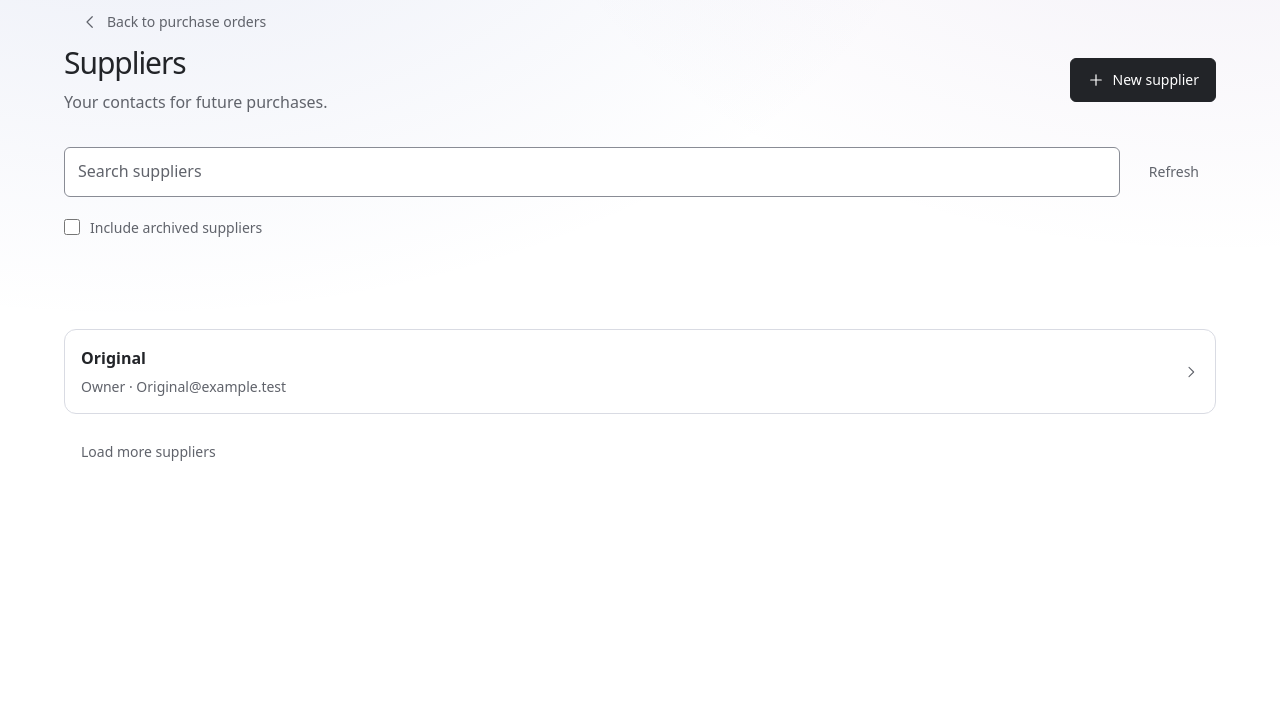
it: retains query-bound loaded pages on failure and ignores obsolete responses
Click the button "Load more suppliers": point(148, 452) x1=64 y1=430 x2=233 y2=474
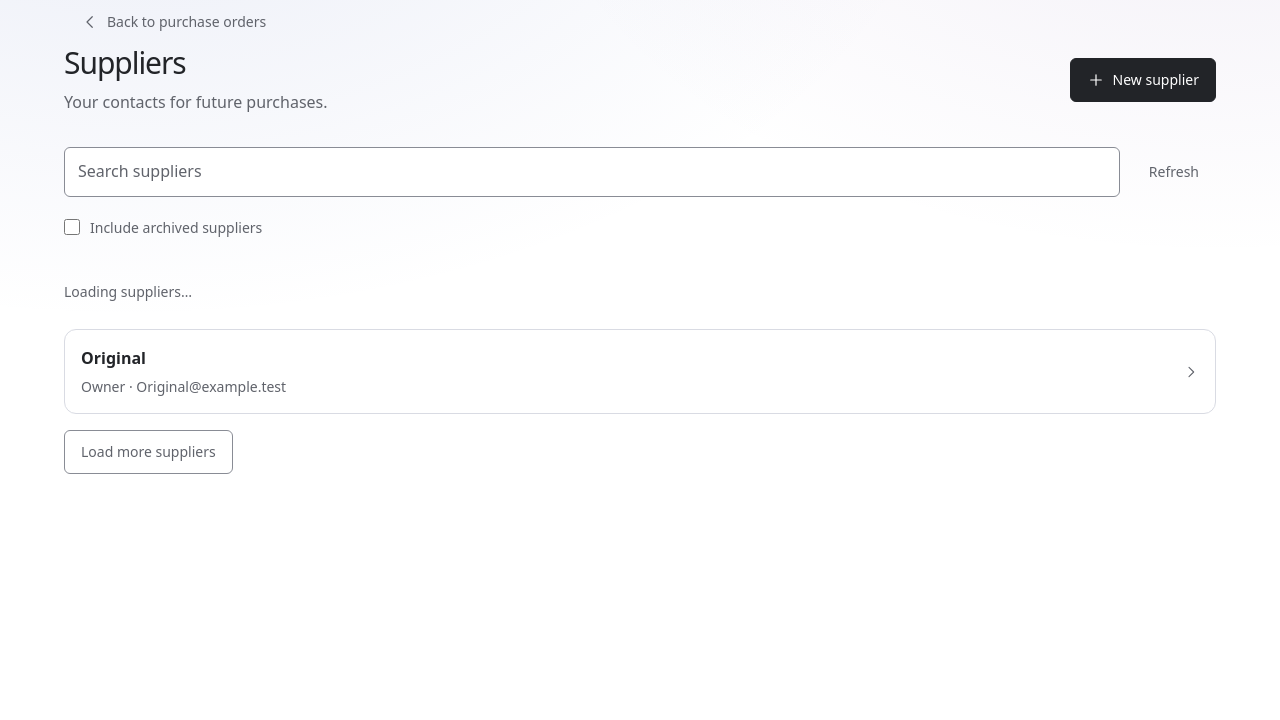
Note: WHEN searching supersedes the outstanding continuation, then another query fails.
In the search field: point(592, 172) x1=64 y1=147 x2=1120 y2=197, type "Latest"
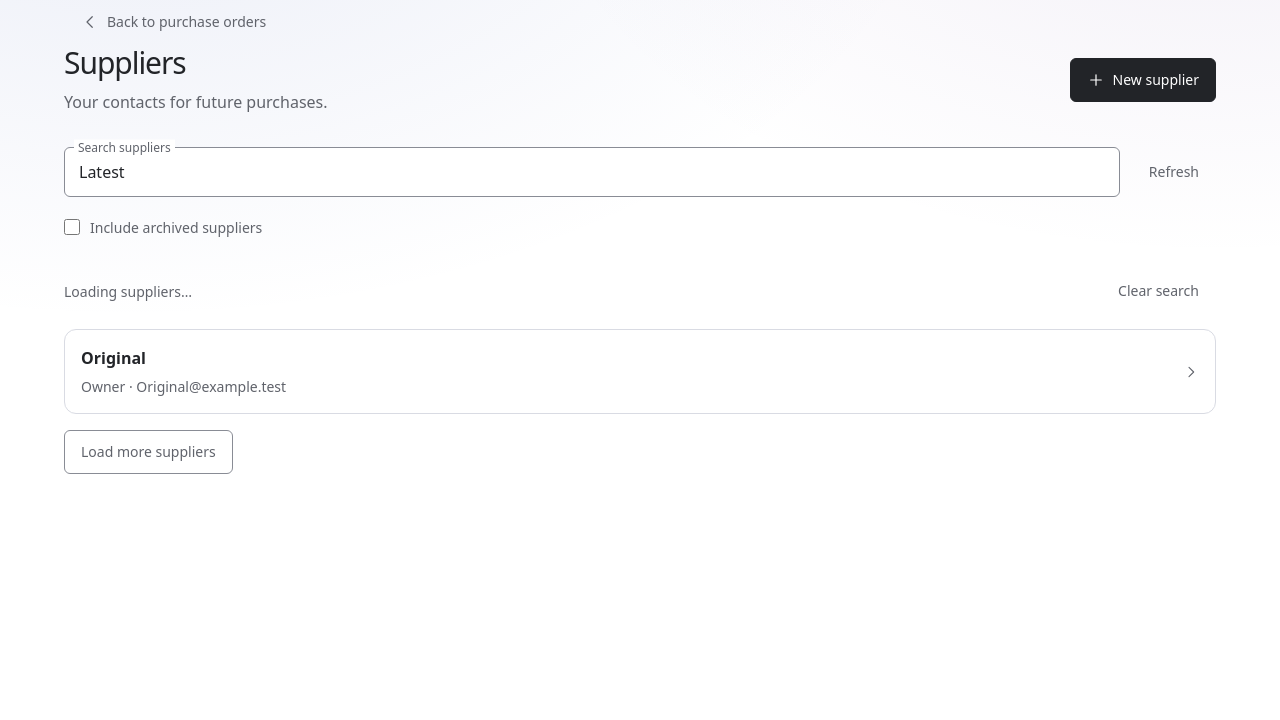
Submit the form, box x1=64 y1=147 x2=1216 y2=249
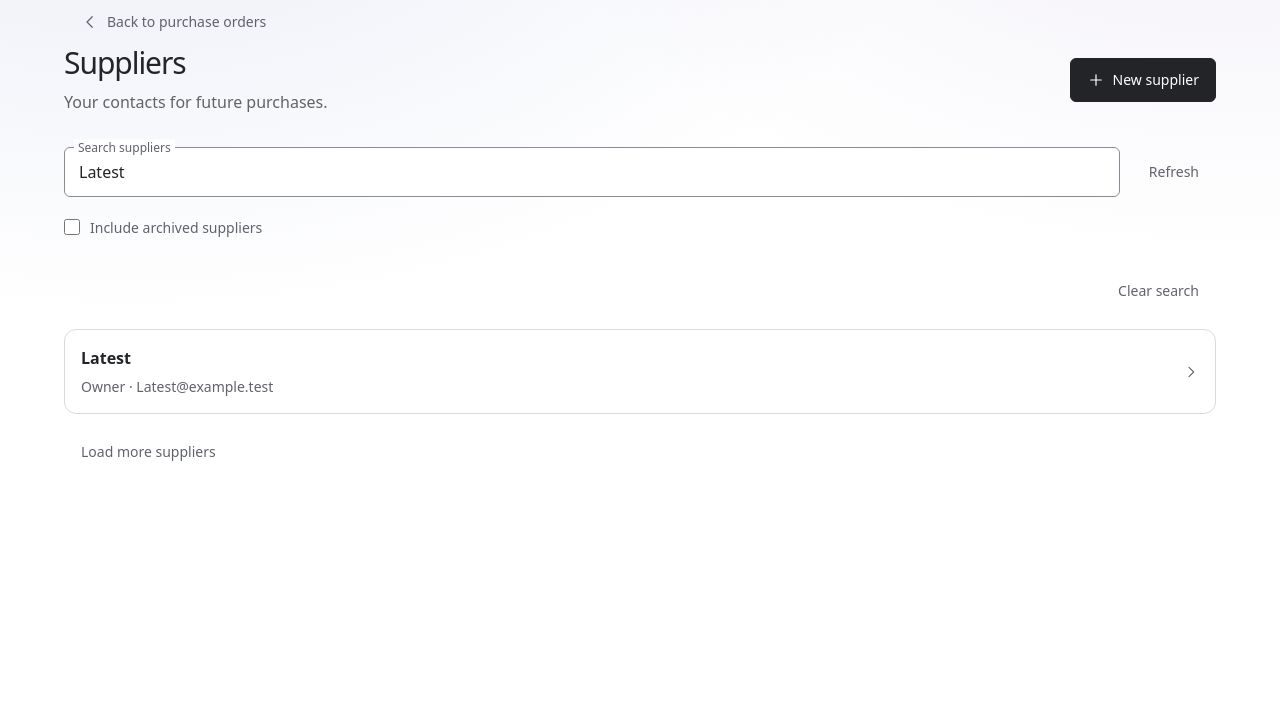
Expected: the text "Latest" is shown, x1=81 y1=347 x2=131 y2=369
Replace the text in the search field with "Failed": point(592, 172) x1=64 y1=147 x2=1120 y2=197
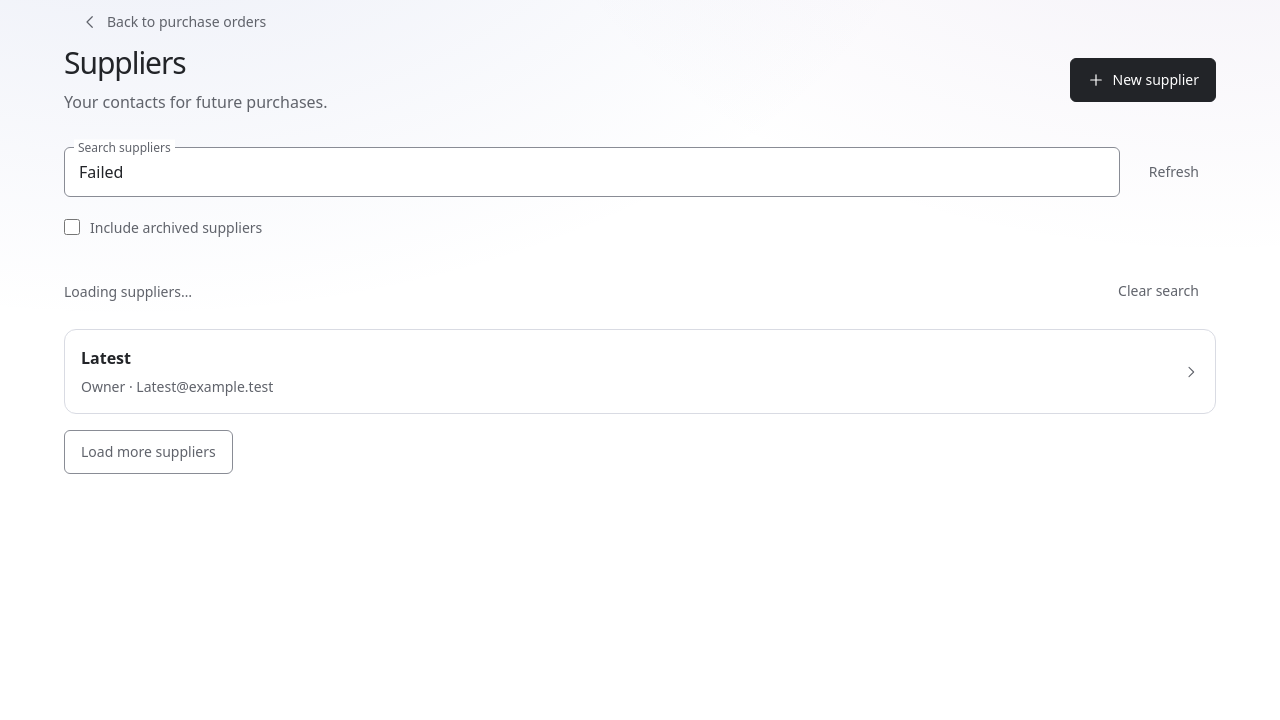
Submit the form, box x1=64 y1=147 x2=1216 y2=249
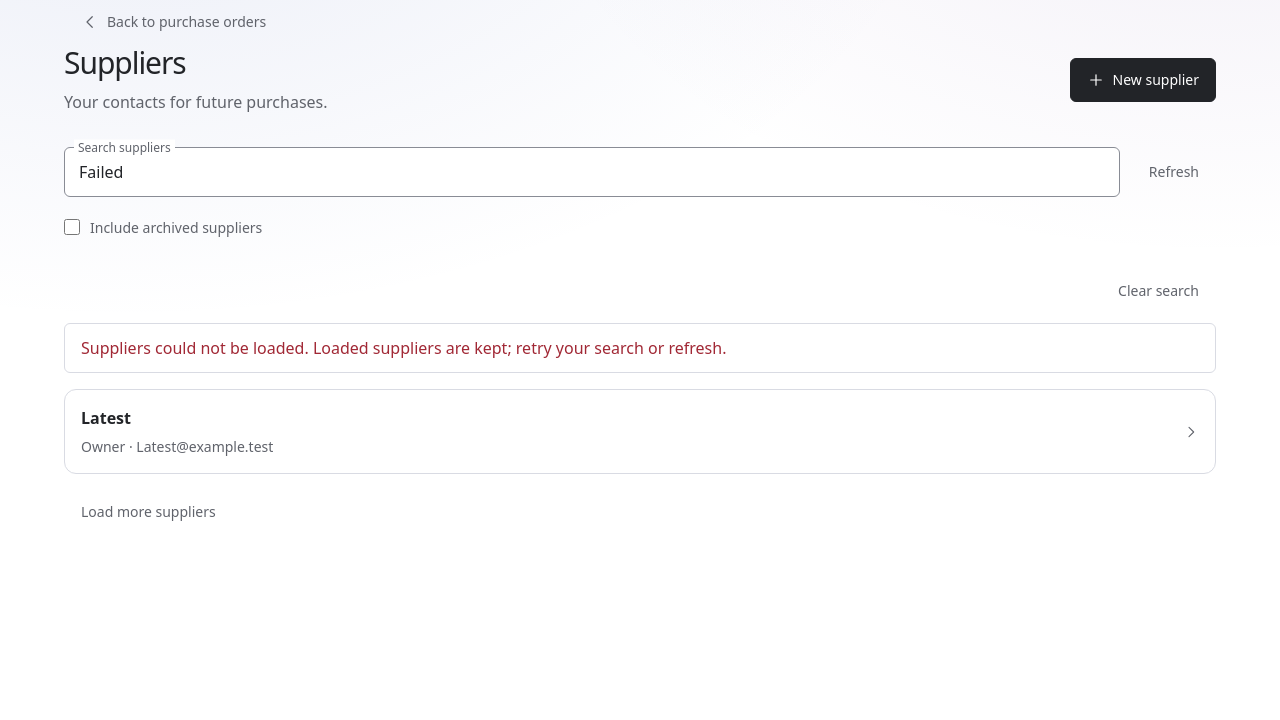
Expected: the message is shown, x1=64 y1=323 x2=1216 y2=373
Click the button "Load more suppliers": point(148, 512) x1=64 y1=490 x2=233 y2=534
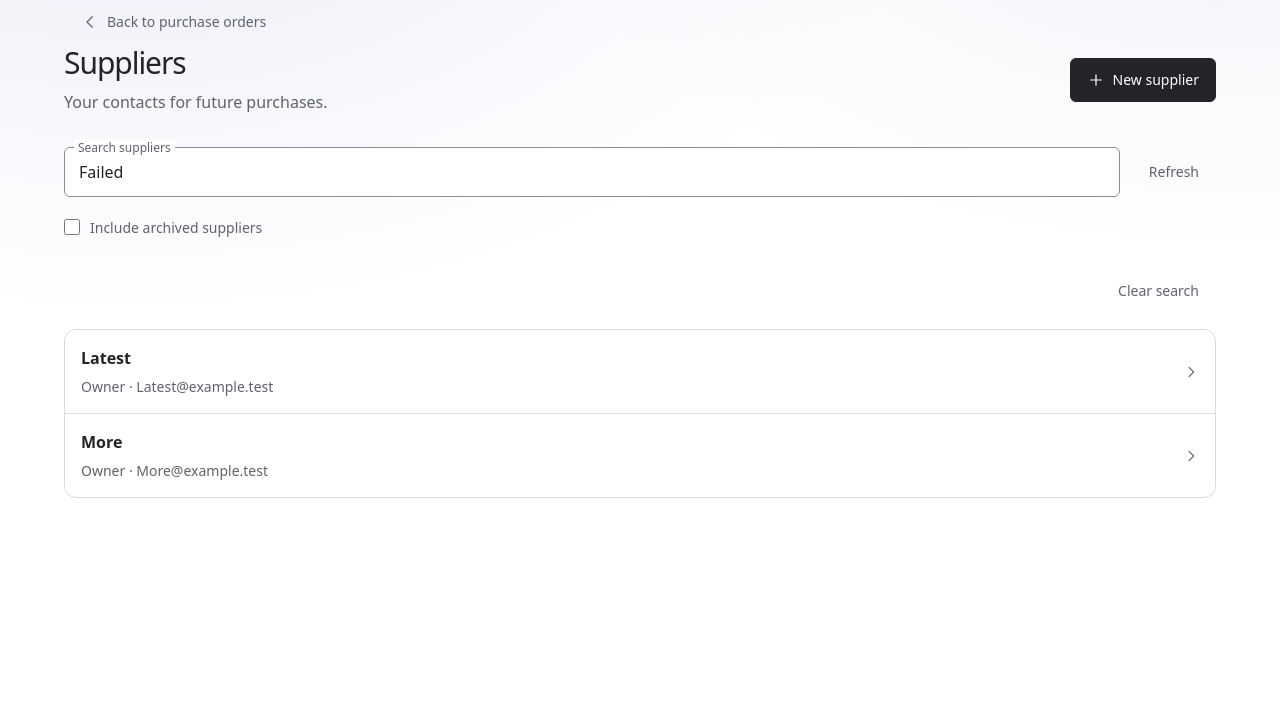
Expected: the text "Latest" is shown, x1=81 y1=347 x2=131 y2=369
Expected: the text "More" is shown, x1=81 y1=431 x2=122 y2=453
